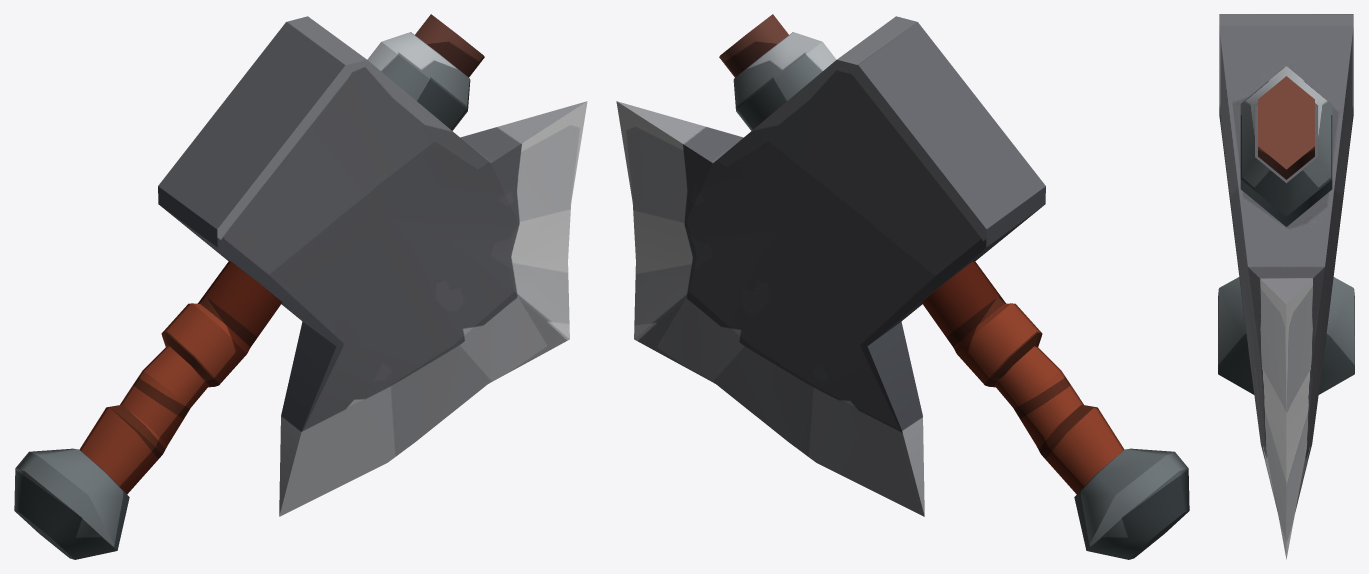
Rendered from Hard_03.FBX.
The picture shows the model from 3 angles, left to right: view 1: azimuth 30°, elevation 25°; view 2: azimuth 150°, elevation 25°; view 3: azimuth 270°, elevation 25°; orthographic projection. The views are drawn at different scales.
Parts seen in each view (by area): view 1: Hard_03; view 2: Hard_03; view 3: Hard_03.
Boxes of the visible parts, x1,y1,x2,y2 form: Hard_03: [14, 14, 587, 559]; Hard_03: [616, 14, 1189, 559]; Hard_03: [1218, 14, 1354, 559].
Size of the model in its own units: 75.58 by 59.27 by 13.91.
